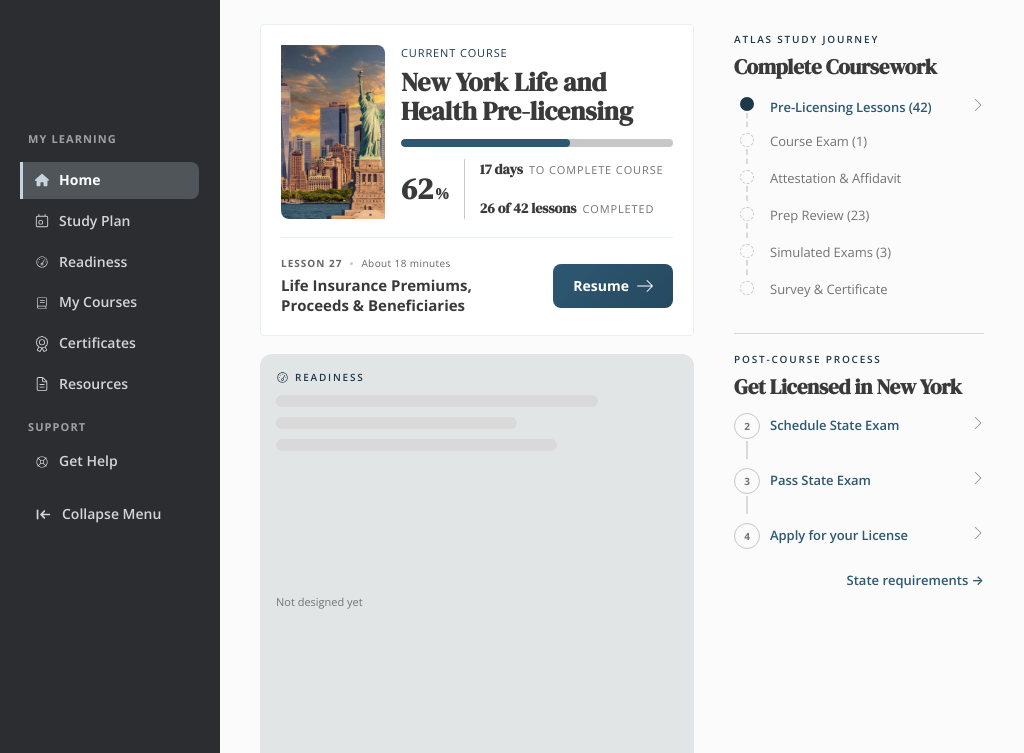
it: the in-shell course launcher is a lo-fi placeholder › shows the placeholder and none of the old course chrome
Click the button "Resume" at [613, 286], box [553, 264, 673, 308]
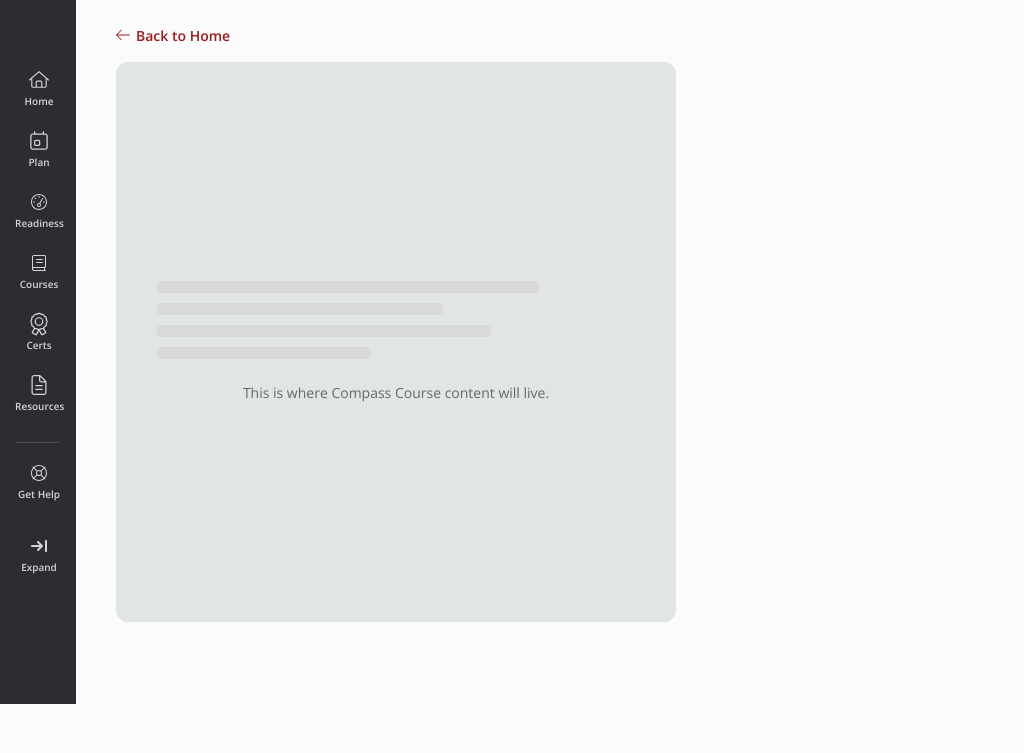
Result: the text "This is where Compass Course content will live" is shown at [243, 382, 549, 402]
Result: the button "Back to Home" is shown at [116, 24, 230, 46]
